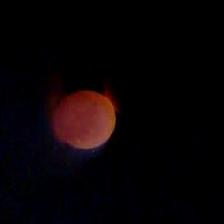infertile: (52, 89, 118, 149)
